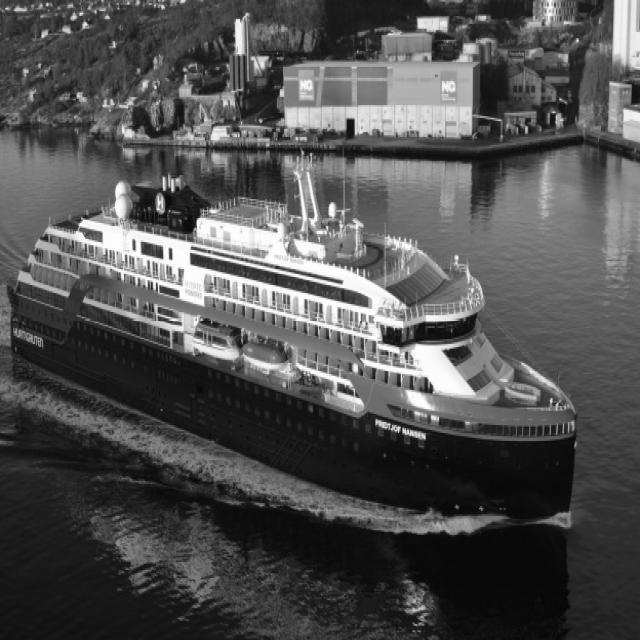cruises: (6, 162, 581, 537)
